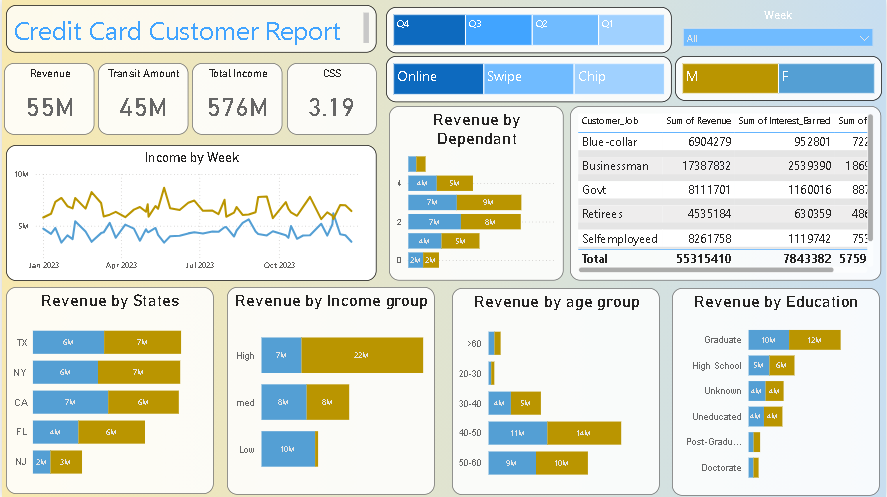

The page's visual inventory and layout, read from the dashboard file:
{"tool":"powerbi","page":{"name":"customer report","canvas":[1280,720],"ordinal":2},"visuals":[{"type":"barChart","title":"Revenue by Education","fields":{"Y":["Sum(ccdb credit_card.Revenue)"],"Category":["ccdb cust_detail.Education_Level"],"Series":["ccdb cust_detail.Gender"]},"box":[971,417.4,301.4,301.4],"z":0},{"type":"treemap","fields":{"Group":["ccdb credit_card.Qtr"],"Values":["Min(ccdb credit_card.ï»¿Client_Num)"]},"box":[556.5,10.1,414.5,66.7],"z":1000},{"type":"textbox","box":[5.6,7,536.6,69],"z":2000},{"type":"slicer","title":"Week","fields":{"Values":["ccdb credit_card.Week_Start_Date"]},"box":[976.8,11.6,295.7,65.2],"z":3000},{"type":"card","title":"CSS","fields":{"Values":["Avg(ccdb cust_detail.Cust_Satisfaction_Score)"]},"box":[412.7,91.5,129.6,104.2],"z":4000},{"type":"tableEx","fields":{"Values":["ccdb cust_detail.Customer_Job","Sum(ccdb credit_card.Revenue)","Sum(ccdb credit_card.Interest_Earned)","Sum(ccdb cust_detail.Income)"]},"box":[823.7,154.1,450.7,253.4],"z":5000},{"type":"treemap","fields":{"Values":["Min(ccdb credit_card.ï»¿Client_Num)"],"Group":["ccdb cust_detail.Gender"]},"box":[975.4,81.2,300,65.2],"z":6000},{"type":"card","title":"Revenue","fields":{"Values":["Sum(ccdb credit_card.Revenue)"]},"box":[3.2,91.9,131,104],"z":7000},{"type":"card","title":"Transit Amount","fields":{"Values":["Sum(ccdb credit_card.Total_Trans_Amt)"]},"box":[139.4,91.5,131,104.2],"z":8000},{"type":"card","title":"Total Income","fields":{"Values":["Sum(ccdb cust_detail.Income)"]},"box":[276.1,91.5,131,104.2],"z":9000},{"type":"lineChart","title":" Income by Week","fields":{"Category":["ccdb credit_card.Week_Start_Date"],"Y":["Sum(ccdb cust_detail.Income)"],"Series":["ccdb cust_detail.Gender"]},"box":[5.6,209.9,536.6,197.2],"z":10000},{"type":"barChart","title":"Revenue by age group","fields":{"Y":["Sum(ccdb credit_card.Revenue)"],"Category":["ccdb cust_detail.Agegroup"],"Series":["ccdb cust_detail.Gender"]},"box":[652.2,417.4,301.4,300],"z":11000},{"type":"barChart","title":"Revenue by Income group","fields":{"Y":["Sum(ccdb credit_card.Revenue)"],"Category":["ccdb cust_detail.Incomegroup"],"Series":["ccdb cust_detail.Gender"]},"box":[326.1,415.9,301.4,301.4],"z":12000},{"type":"barChart","title":"Revenue by States","fields":{"Y":["Sum(ccdb credit_card.Revenue)"],"Series":["ccdb cust_detail.Gender"],"Category":["ccdb cust_detail.state_cd"]},"box":[5.8,415.9,301.4,300],"z":13000},{"type":"treemap","fields":{"Values":["Min(ccdb credit_card.ï»¿Client_Num)"],"Group":["ccdb credit_card.Use Chip"]},"box":[556.5,81.2,414.5,66.7],"z":14000},{"type":"barChart","title":"Revenue by Dependant","fields":{"Y":["Sum(ccdb credit_card.Revenue)"],"Series":["ccdb cust_detail.Gender"],"Category":["ccdb cust_detail.Dependent_Count"]},"box":[560.2,154.1,253.4,253.4],"z":15000}]}

Visuals, with their boxes in screenshot pixels (x1, y1, x2, y2), scaled from the page's 1280x720 canvas onto the 887x497 screenshot:
"Revenue by Education" barChart: x1=673, y1=288, x2=882, y2=496
treemap - ccdb credit_card.Qtr x Min(ccdb credit_card.ï»¿Client_Num): x1=386, y1=7, x2=673, y2=53
textbox: x1=4, y1=5, x2=376, y2=52
"Week" slicer: x1=677, y1=8, x2=882, y2=53
"CSS" card: x1=286, y1=63, x2=376, y2=135
tableEx - ccdb cust_detail.Customer_Job x Sum(ccdb credit_card.Revenue): x1=571, y1=106, x2=883, y2=281
treemap - Min(ccdb credit_card.ï»¿Client_Num) x ccdb cust_detail.Gender: x1=676, y1=56, x2=884, y2=101
"Revenue" card: x1=2, y1=63, x2=93, y2=135
"Transit Amount" card: x1=97, y1=63, x2=187, y2=135
"Total Income" card: x1=191, y1=63, x2=282, y2=135
" Income by Week" lineChart: x1=4, y1=145, x2=376, y2=281
"Revenue by age group" barChart: x1=452, y1=288, x2=661, y2=495
"Revenue by Income group" barChart: x1=226, y1=287, x2=435, y2=495
"Revenue by States" barChart: x1=4, y1=287, x2=213, y2=494
treemap - Min(ccdb credit_card.ï»¿Client_Num) x ccdb credit_card.Use Chip: x1=386, y1=56, x2=673, y2=102
"Revenue by Dependant" barChart: x1=388, y1=106, x2=564, y2=281
